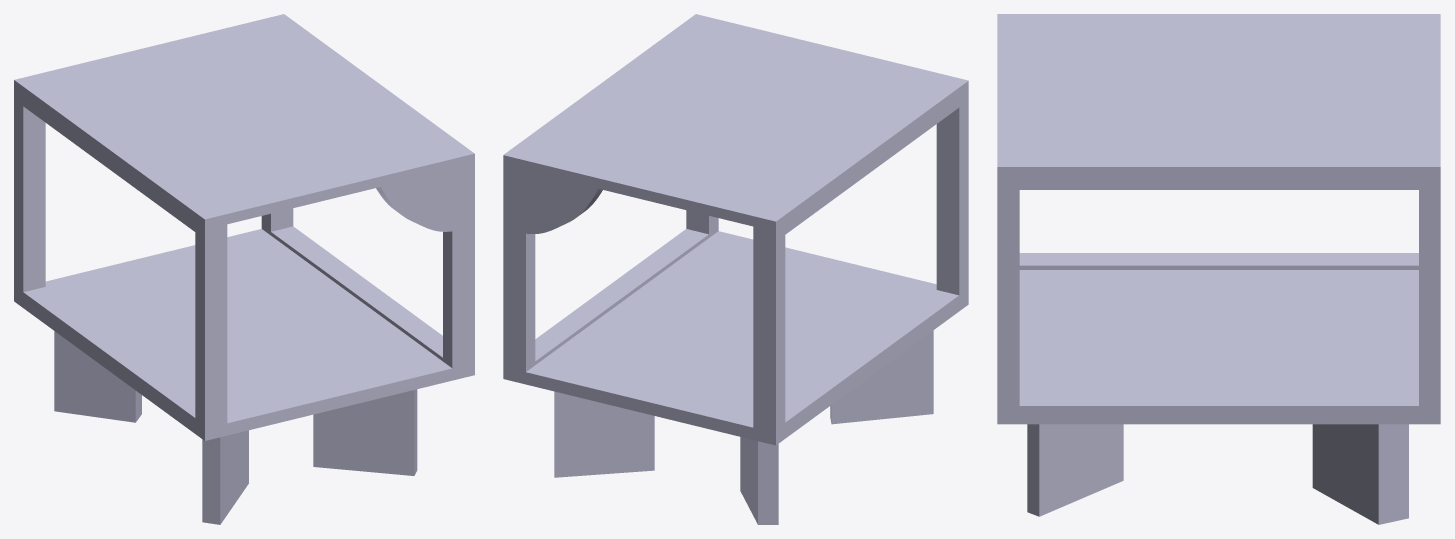
Rendered from Unnamed_Krytn_Tray.dae.
3 views of the same model, side by side, from view 1: azimuth 30°, elevation 25°; view 2: azimuth 150°, elevation 25°; view 3: azimuth 270°, elevation 25° (orthographic). The views are drawn at different scales.
Visible parts, largest first — view 1: node0; view 2: node0; view 3: node0.
Boxes of the visible parts, x1=… form: node0: x1=14, y1=14, x2=474, y2=524; node0: x1=503, y1=14, x2=968, y2=524; node0: x1=997, y1=14, x2=1440, y2=524.
Bounding box in the file's own units: 0.2861 × 0.35 × 0.3243.
